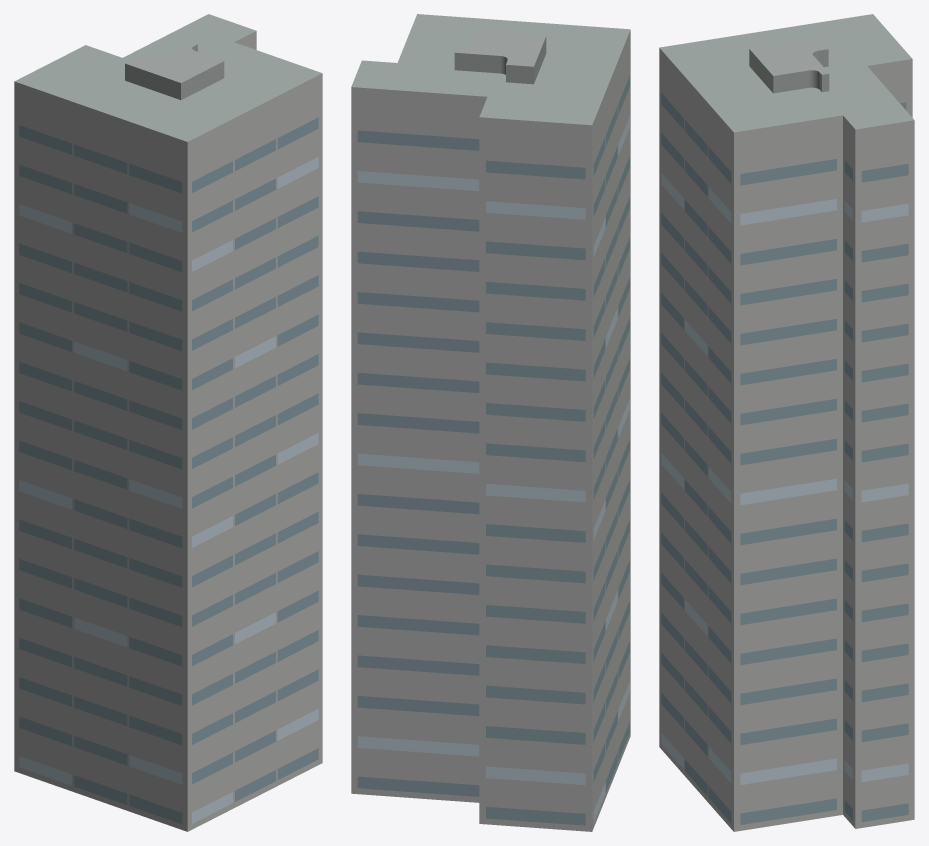
Rendered from fallback-songpa-helio-city-318.glb.
3 views of the same model, side by side, from view 1: azimuth 30°, elevation 25°; view 2: azimuth 150°, elevation 25°; view 3: azimuth 270°, elevation 25° (orthographic). The views are drawn at different scales.
Visible parts, largest first — view 1: fallback-songpa-helio-city-318; view 2: fallback-songpa-helio-city-318; view 3: fallback-songpa-helio-city-318.
Part boxes in pixels (box(x1,y1,x2,y2)): fallback-songpa-helio-city-318: box(14, 14, 322, 831); fallback-songpa-helio-city-318: box(351, 14, 630, 831); fallback-songpa-helio-city-318: box(659, 14, 914, 831).
Size of the model in its own units: 35.1 by 99 by 31.97.
